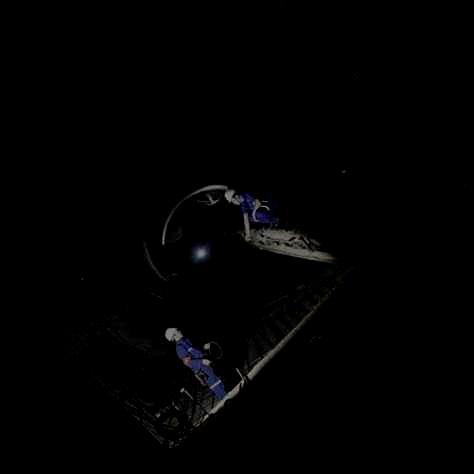helmet: (224, 189, 243, 205), (165, 327, 183, 343)
